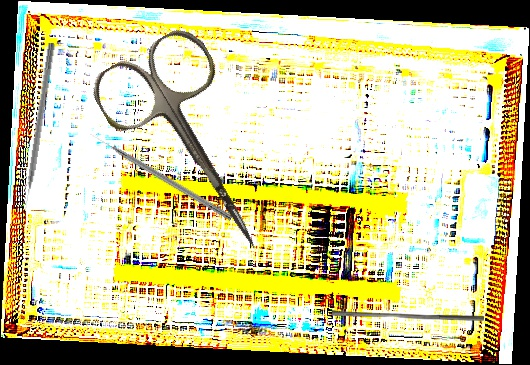Hook Surgical: (88, 130, 234, 222)
Iris Scissors: (84, 20, 306, 281)
Pusher: (19, 42, 56, 215), (332, 310, 484, 321)
